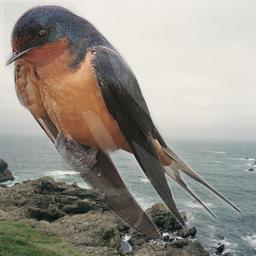Swallow: (4, 2, 241, 242)
